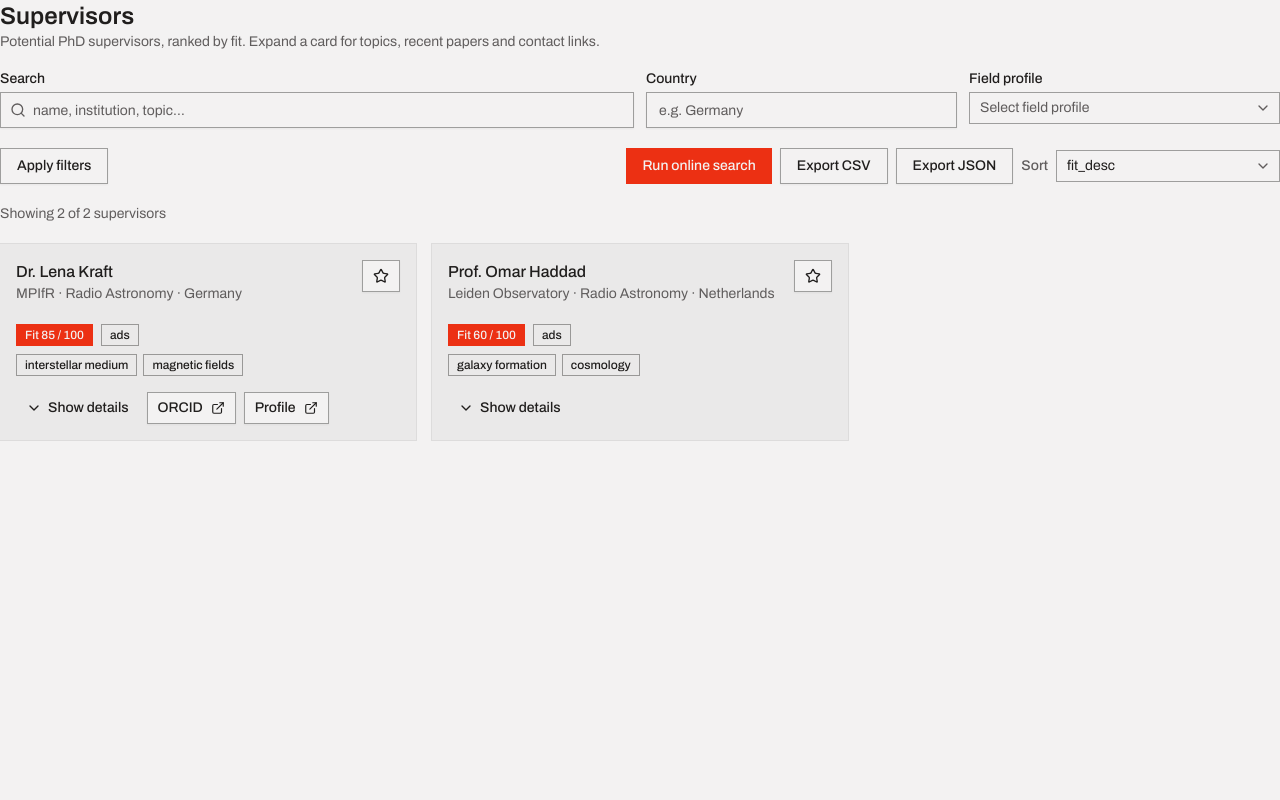
Test: SupervisorsPage › shows an error when the online search fails to start
Expected: the text "Dr. Lena Kraft" is shown, 16,263 -> 113,280
Click the button "Run online search".
click(699, 166)  # box 626,148 -> 772,184
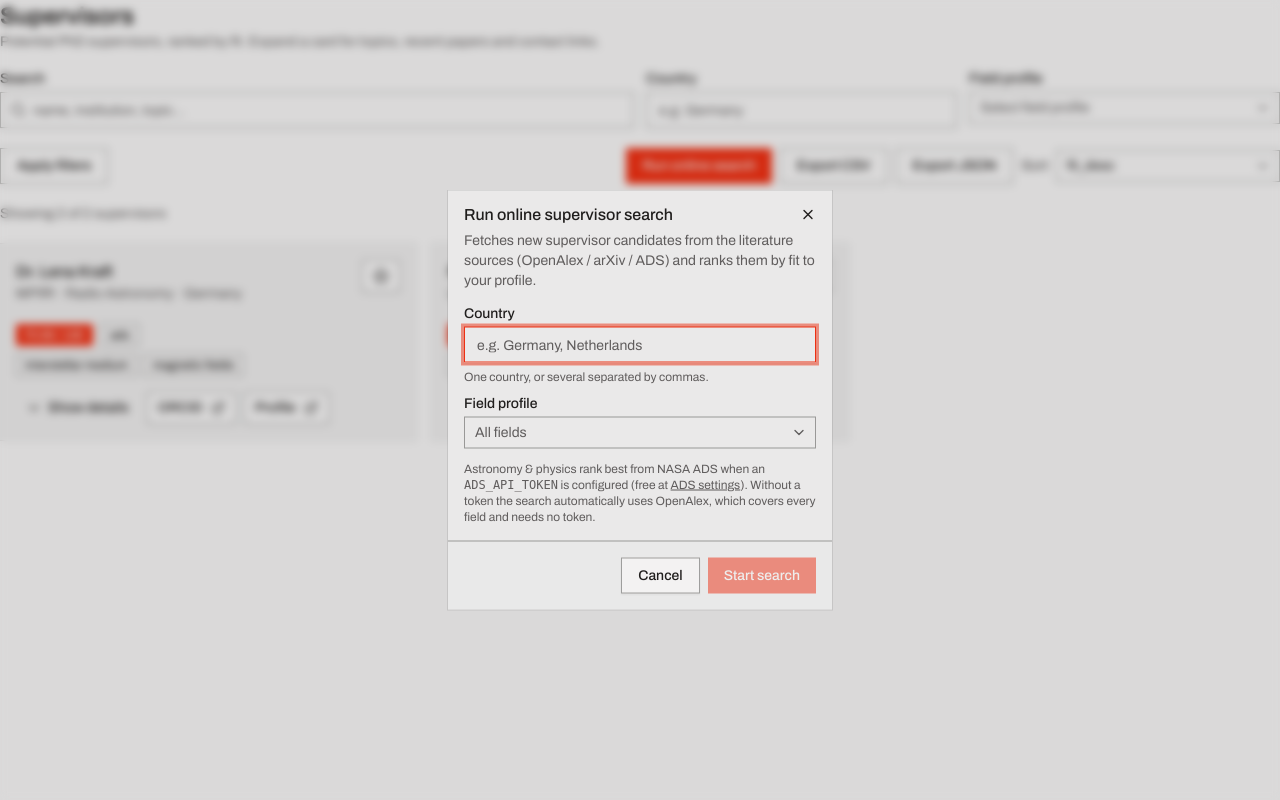
Type "Germany" into the field labelled "Country".
click(640, 344); type("Germany")  # box 464,326 -> 816,362
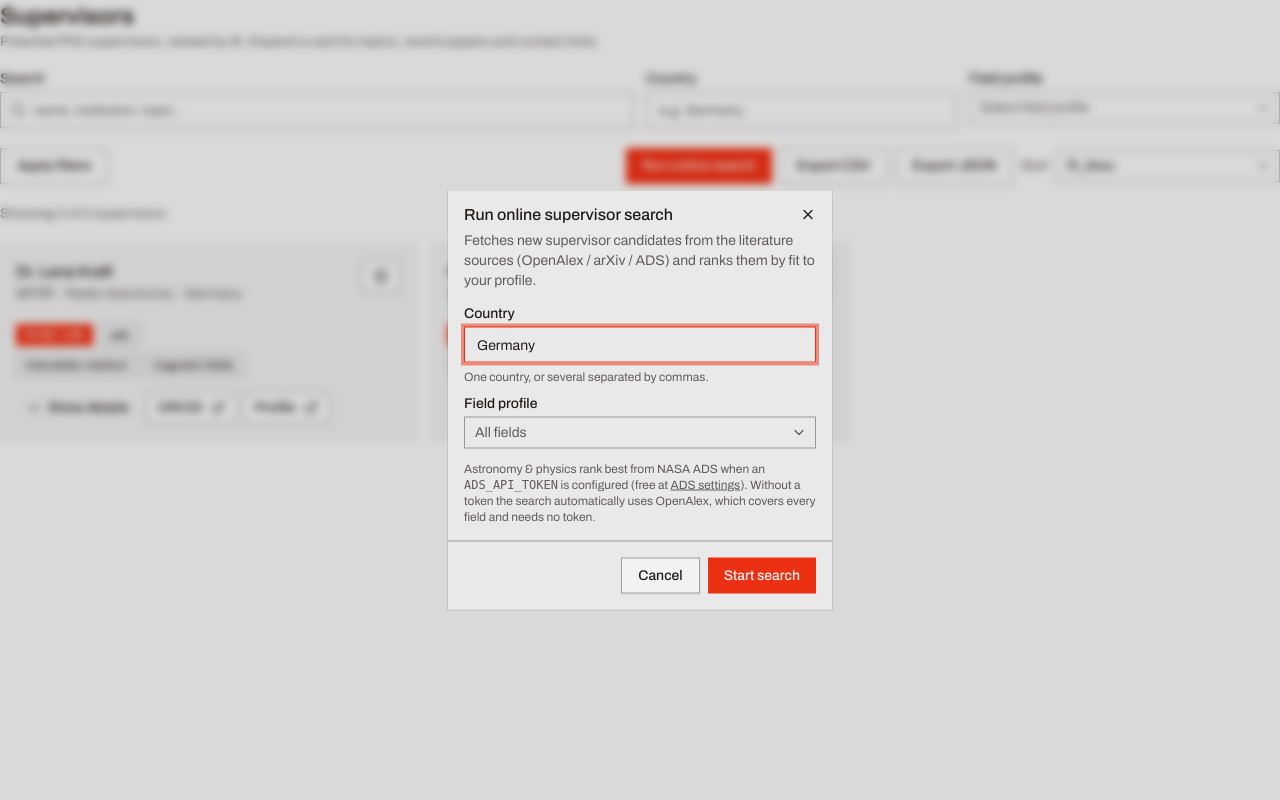
Click the button "Start search".
click(762, 576)  # box 708,558 -> 816,594
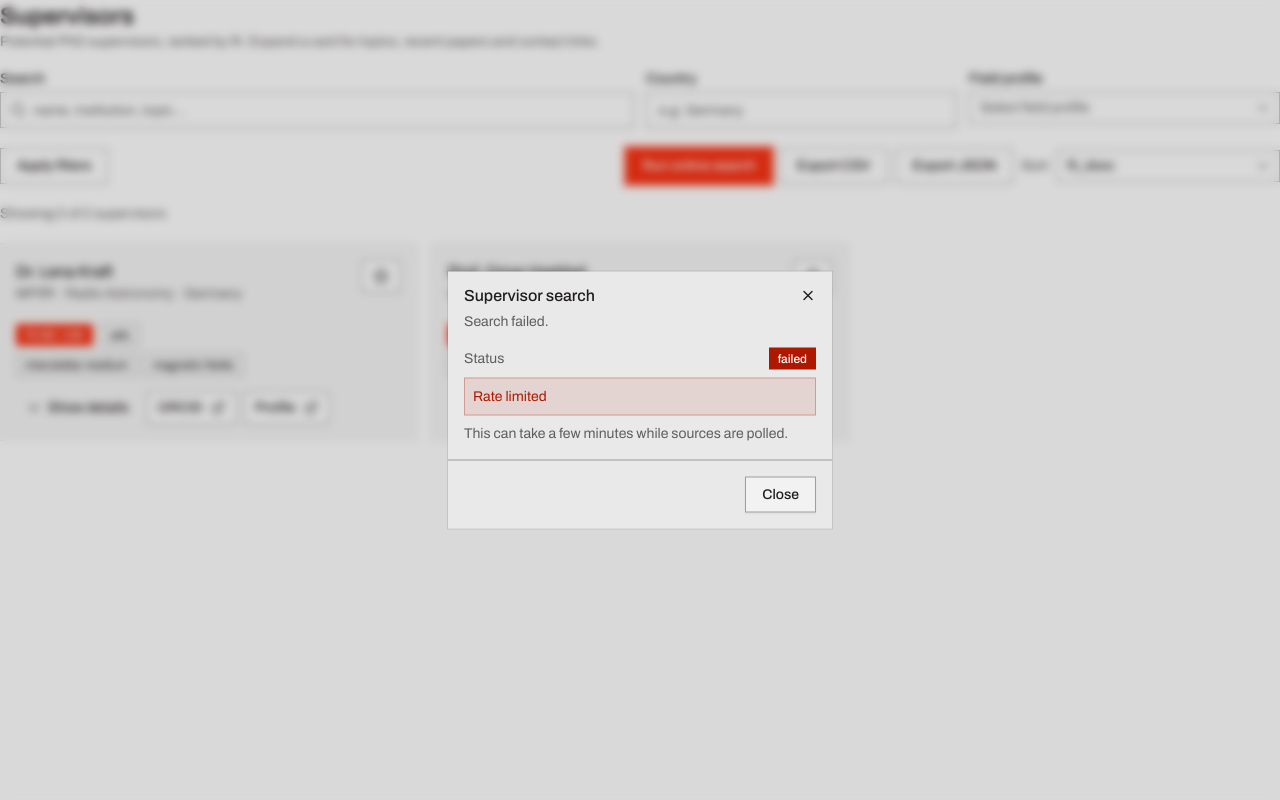
Now the text "Rate limited" is shown, box 464,378 -> 816,416
Now the text with test id "run-status" reads "failed", box 778,352 -> 807,366
